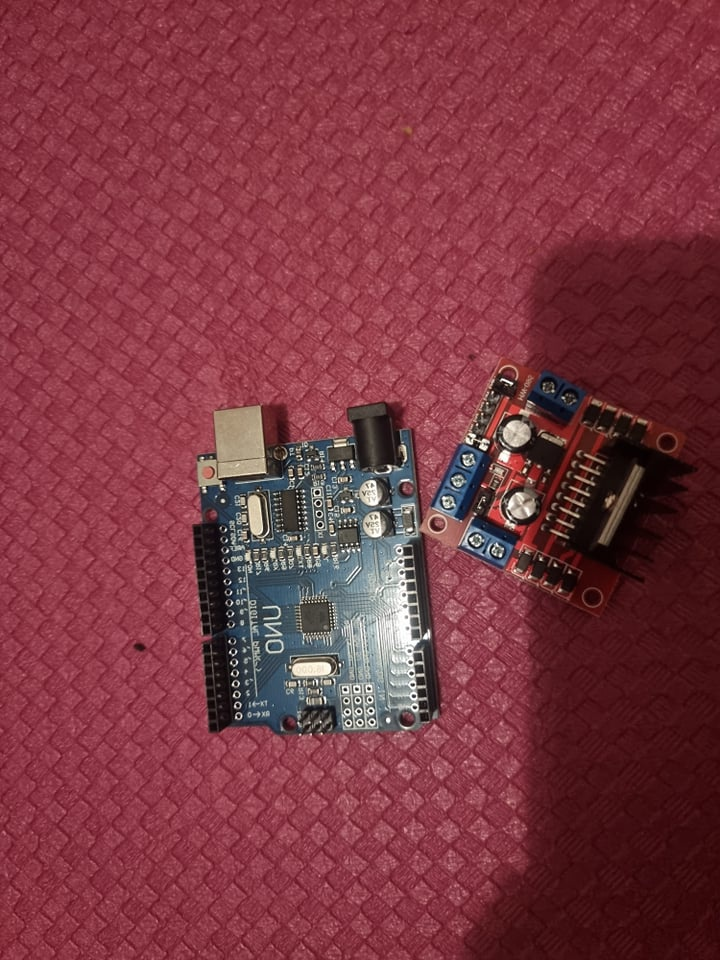MOTOR: (420, 352, 685, 627)
UNO R3: (196, 390, 438, 743)
